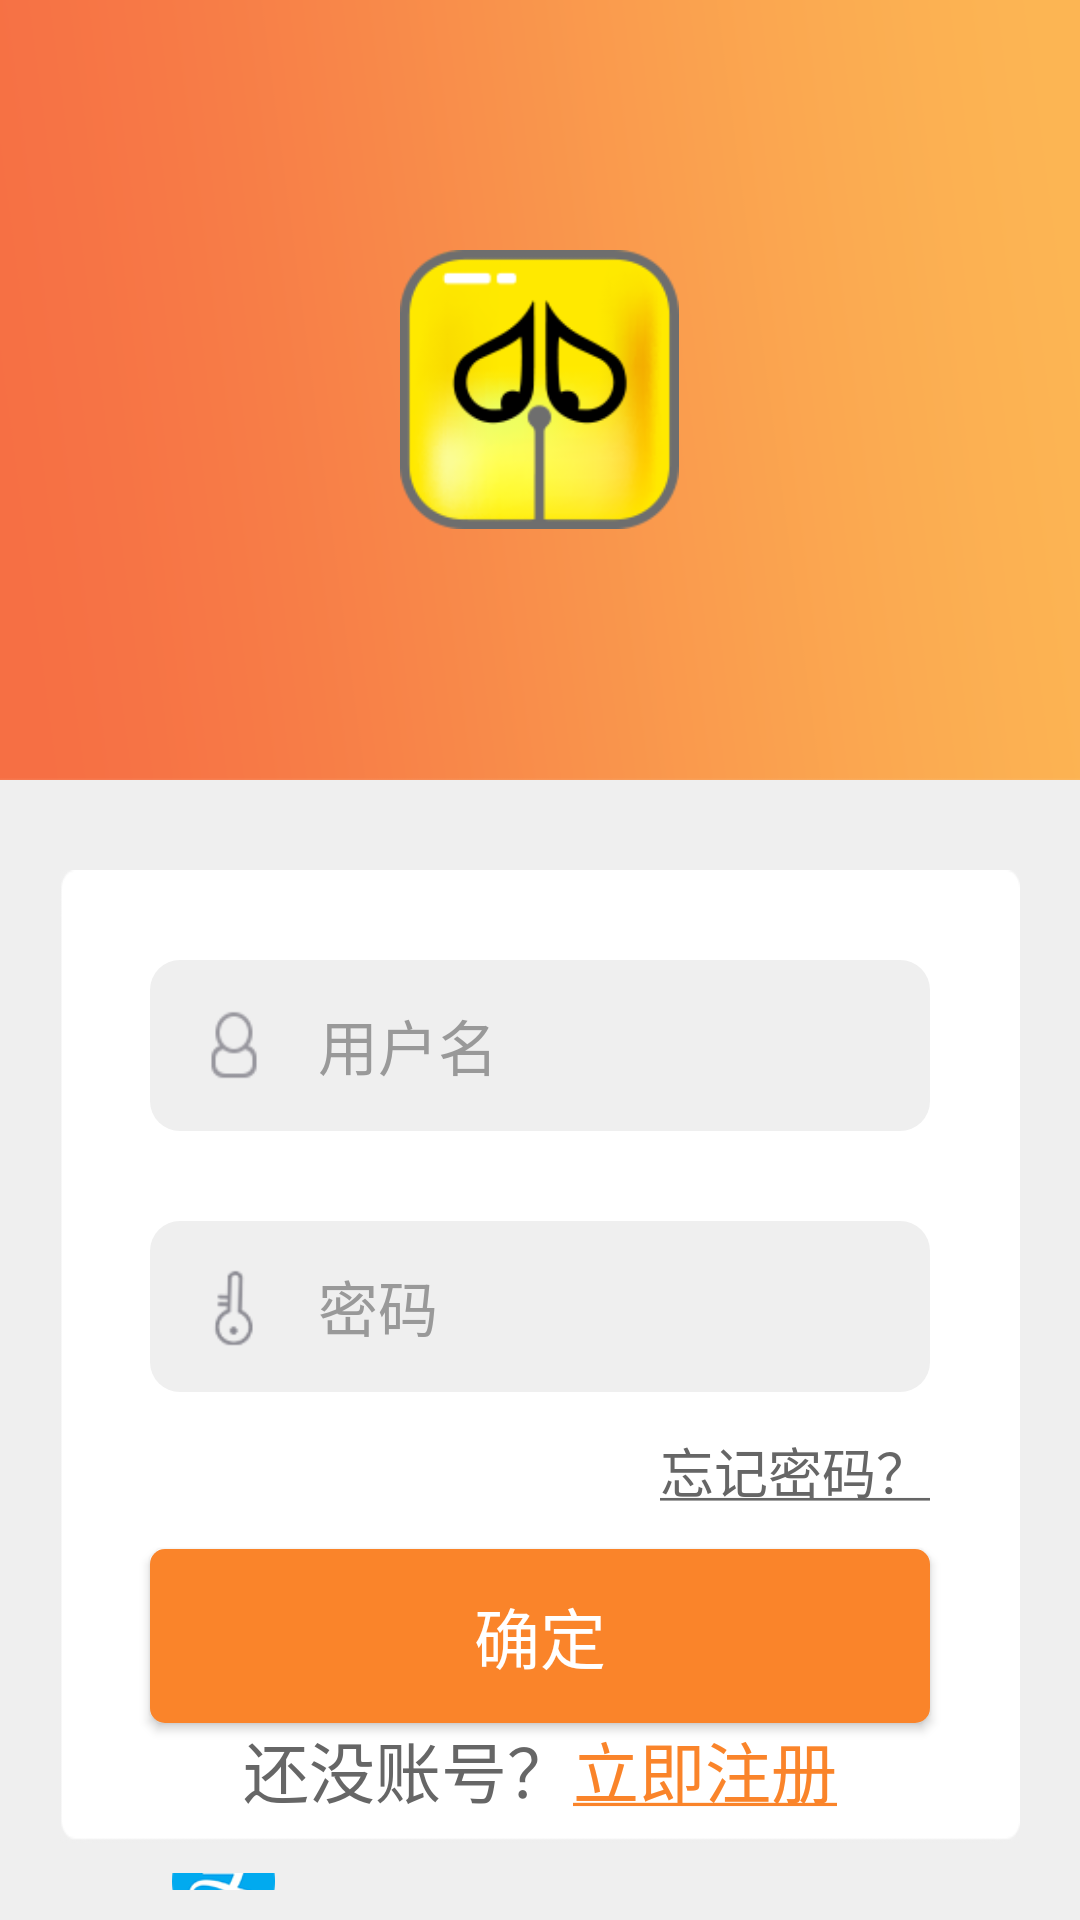

Named icons in this screenshot (1080w x 1920h) and their bounding boxes, box(x1, y1, x2, y2):
password: box(215, 1271, 253, 1345)
username: box(211, 1012, 257, 1078)
